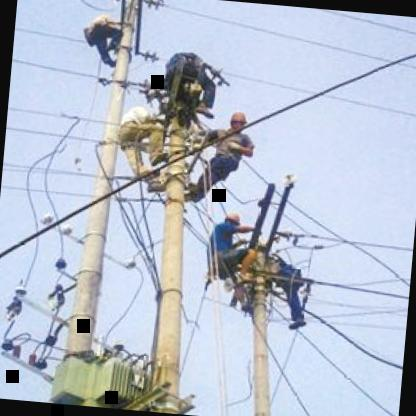helmet: (228, 110, 250, 136), (225, 211, 242, 232)
